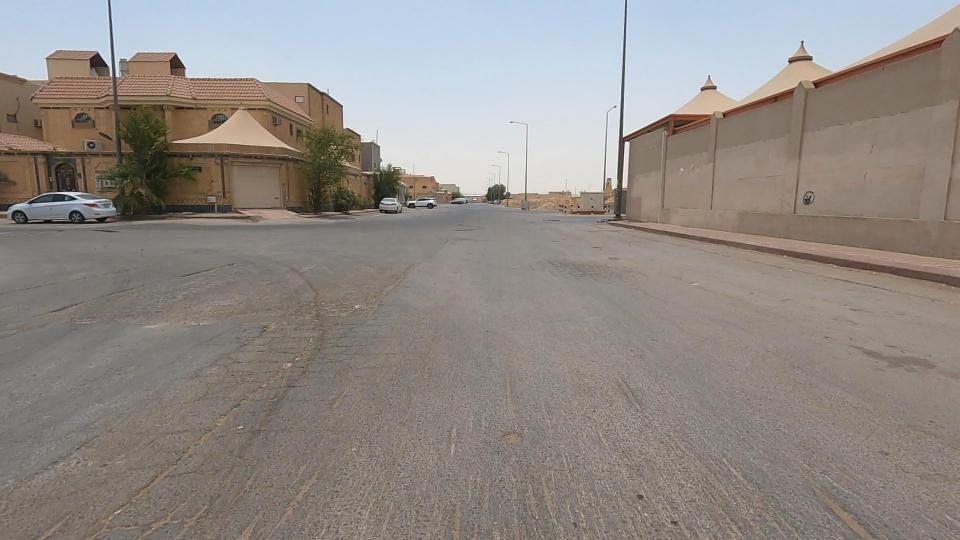POTHOLES: (28, 343, 289, 540), (134, 295, 365, 442), (252, 226, 436, 373), (534, 223, 646, 306)
